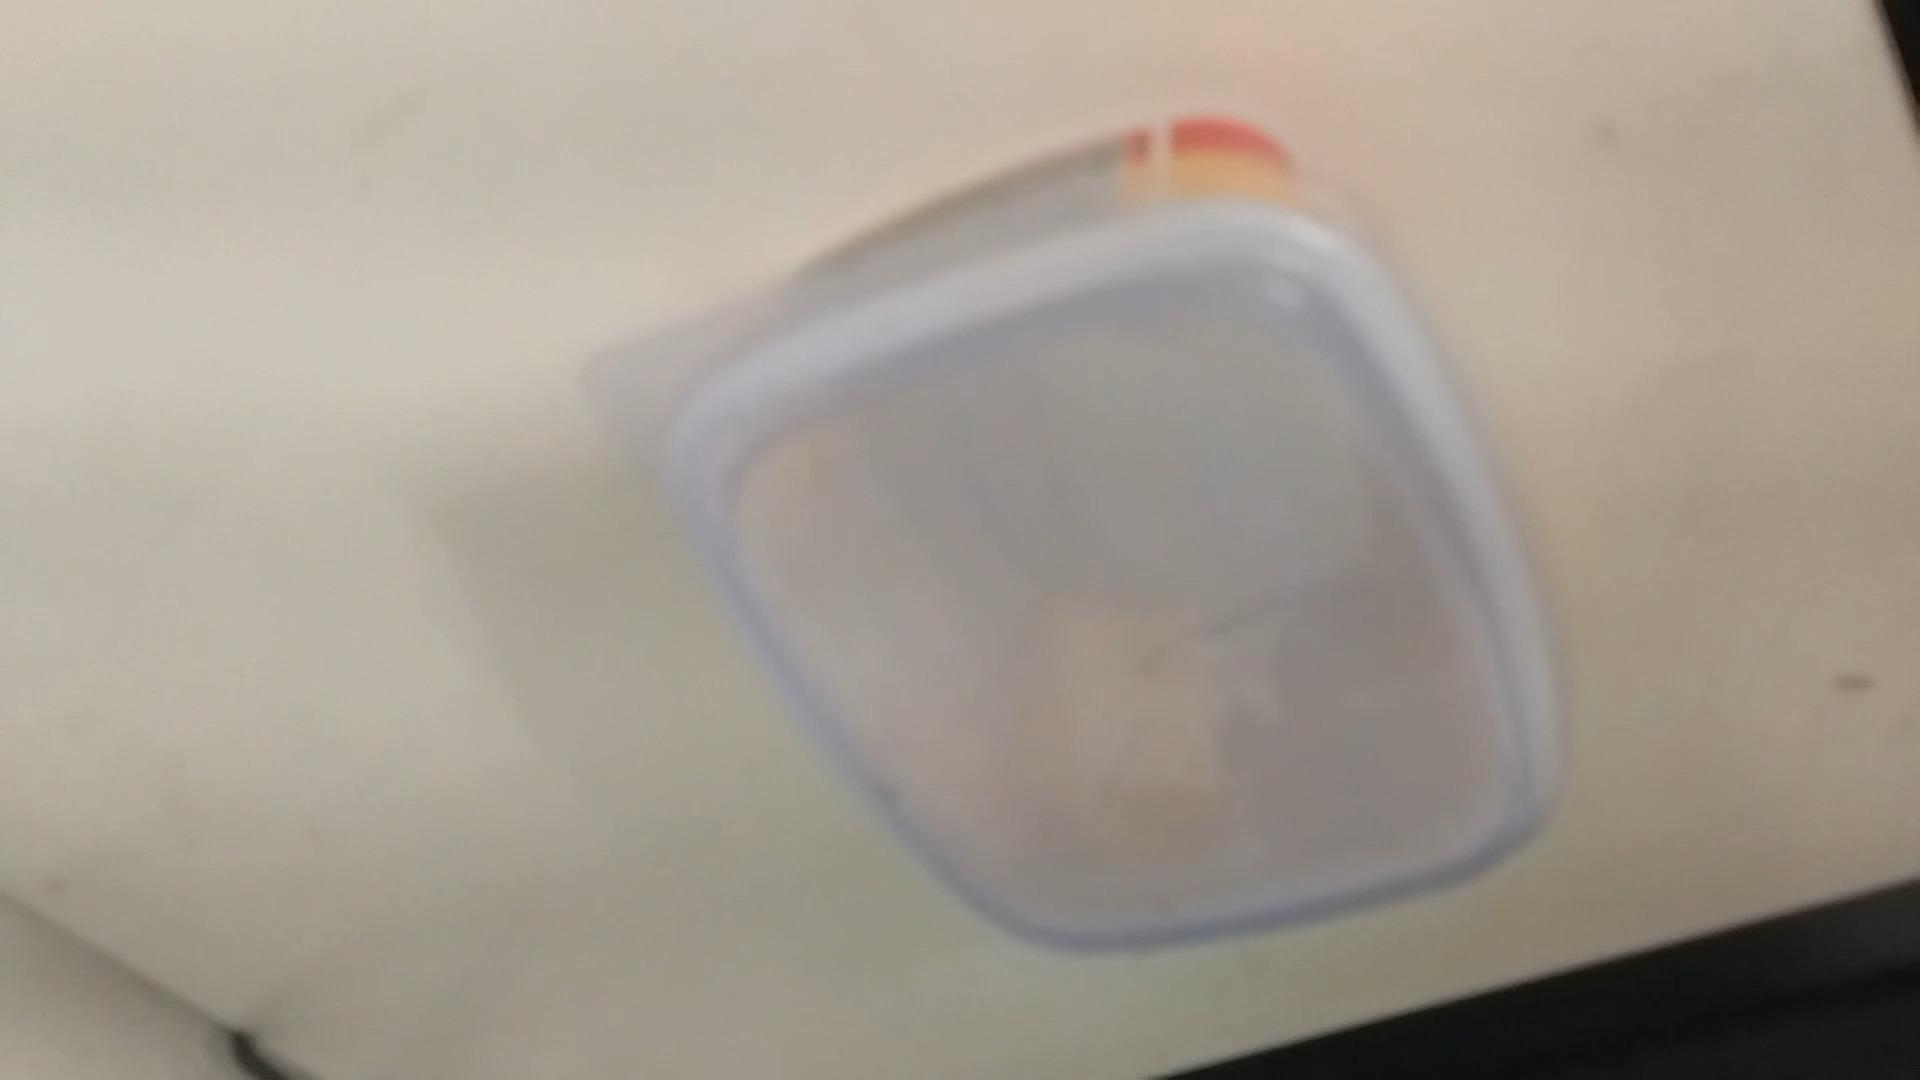butter: (651, 169, 1557, 961)
